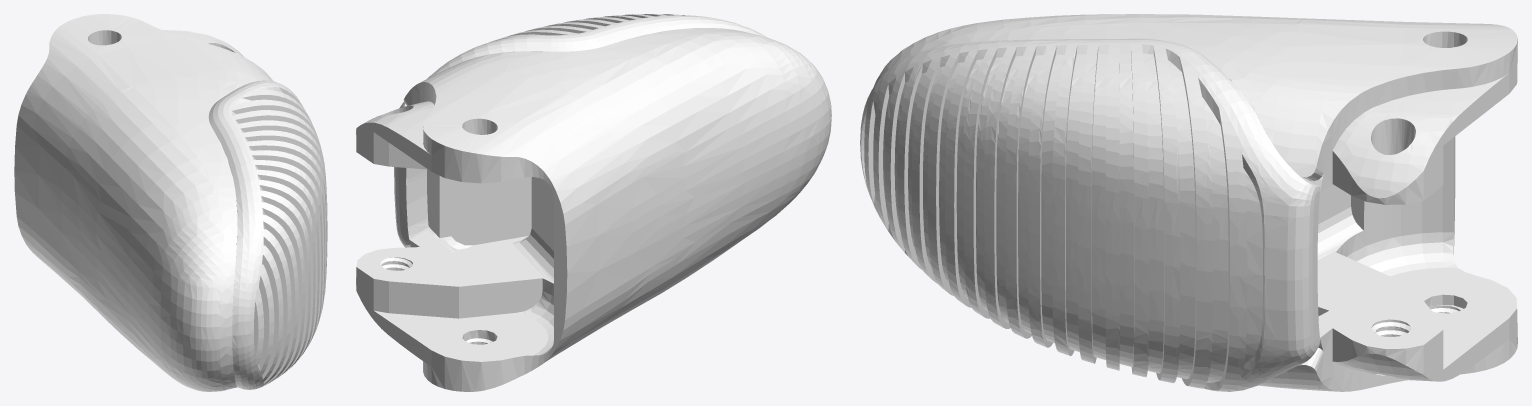
The model's file is rh_ring_distal_vis.obj.
The picture shows the model from 3 angles, left to right: view 1: azimuth 30°, elevation 25°; view 2: azimuth 150°, elevation 25°; view 3: azimuth 270°, elevation 25°; orthographic projection. The views are drawn at different scales.
Visible parts, largest first — view 1: rh_ring_distal; view 2: rh_ring_distal; view 3: rh_ring_distal.
Boxes of the visible parts, bbox=[...] form: rh_ring_distal: bbox=[14, 14, 327, 391]; rh_ring_distal: bbox=[356, 14, 831, 391]; rh_ring_distal: bbox=[860, 14, 1517, 391].
Size of the model in its own units: 0.0182 by 0.0157 by 0.0295.
Materials: 1 (1 with a texture image).
